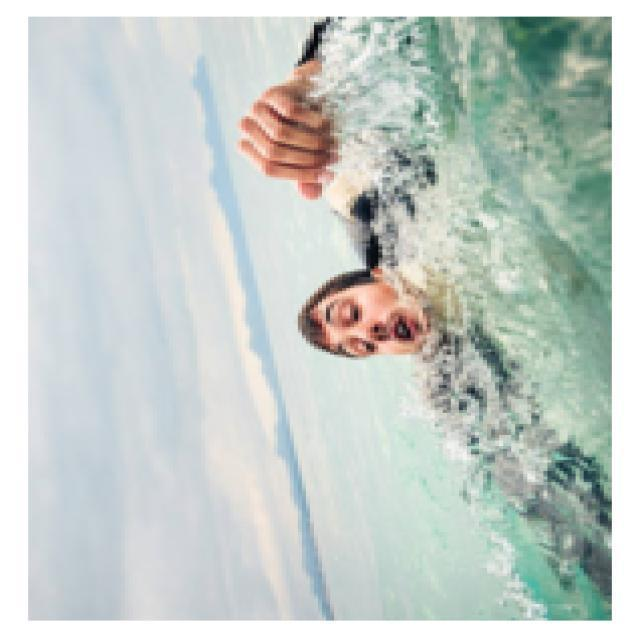drowning: (230, 48, 588, 362)
